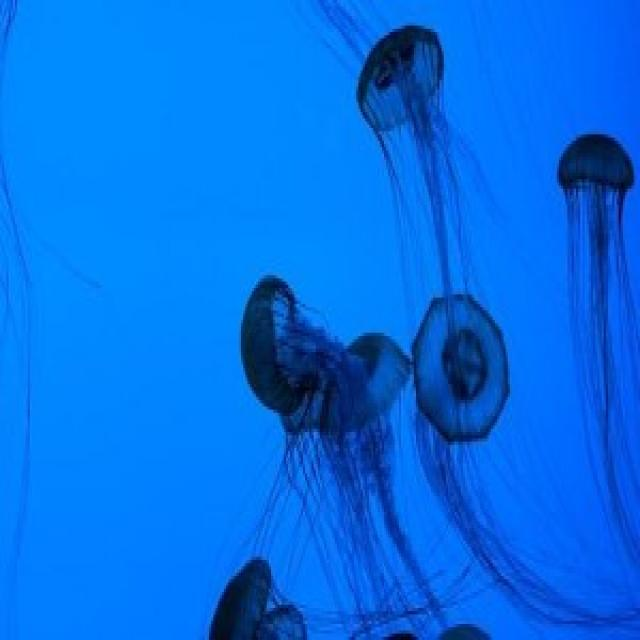Jellyfish: (404, 290, 540, 510), (350, 21, 478, 229), (226, 272, 322, 508), (543, 132, 640, 311), (331, 315, 408, 533), (208, 553, 284, 640)
